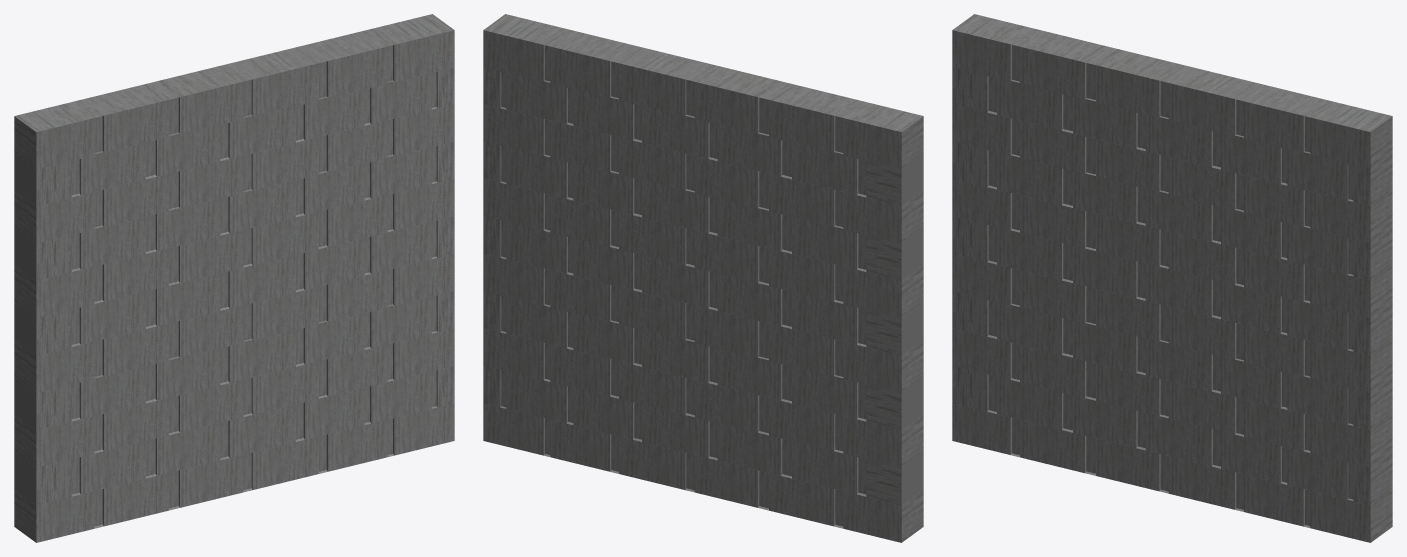
The model's file is Brick_Wall_Long_Clg.fbx.
3 views of the same model, side by side, from view 1: azimuth 30°, elevation 25°; view 2: azimuth 150°, elevation 25°; view 3: azimuth 330°, elevation 25° (orthographic).
Visible parts, largest first — view 1: polySurface18; view 2: polySurface18; view 3: polySurface18.
Part boxes in pixels (<box>): polySurface18: <box>14,14,454,542</box>; polySurface18: <box>483,14,923,542</box>; polySurface18: <box>952,14,1392,542</box>.
Bounding box in the file's own units: 20.01 × 18.77 × 1.83.
